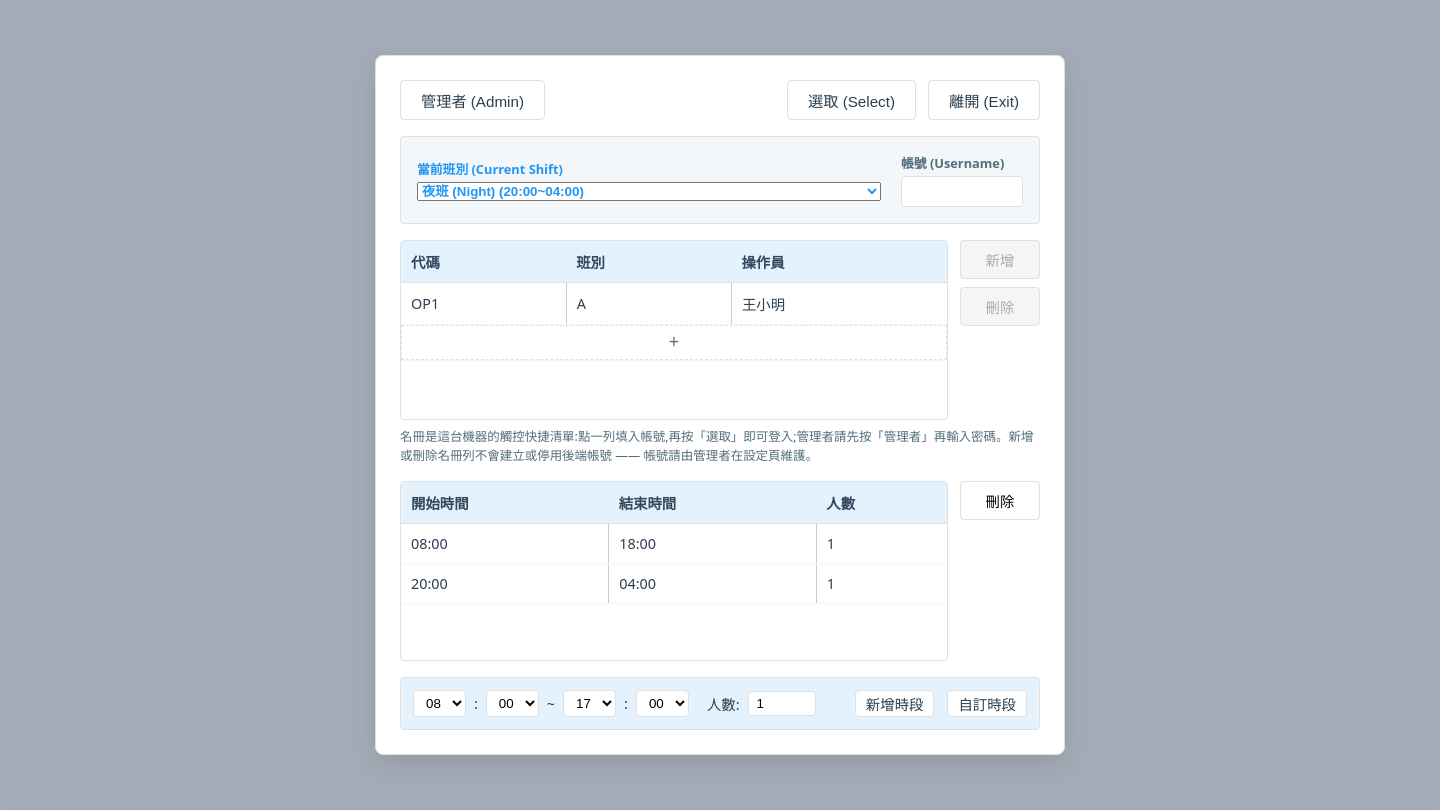
Test case: S17 登入失敗改用畫面訊息 › 429 要與帳號密碼錯誤分開說
Click the text "王小明": (839, 303) [731, 282, 947, 324]
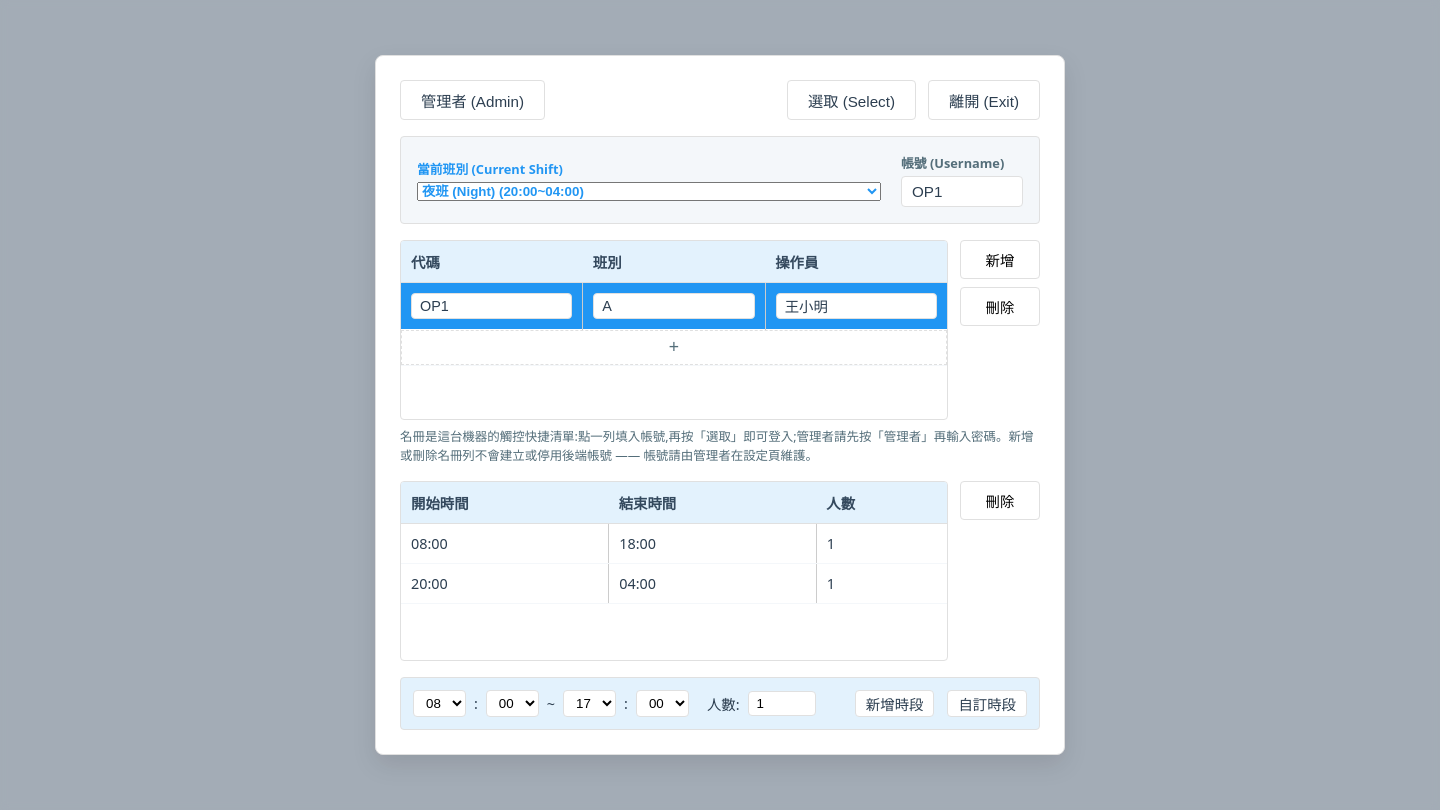
Click the button "選取 (Select)": (851, 100) [787, 80, 916, 120]
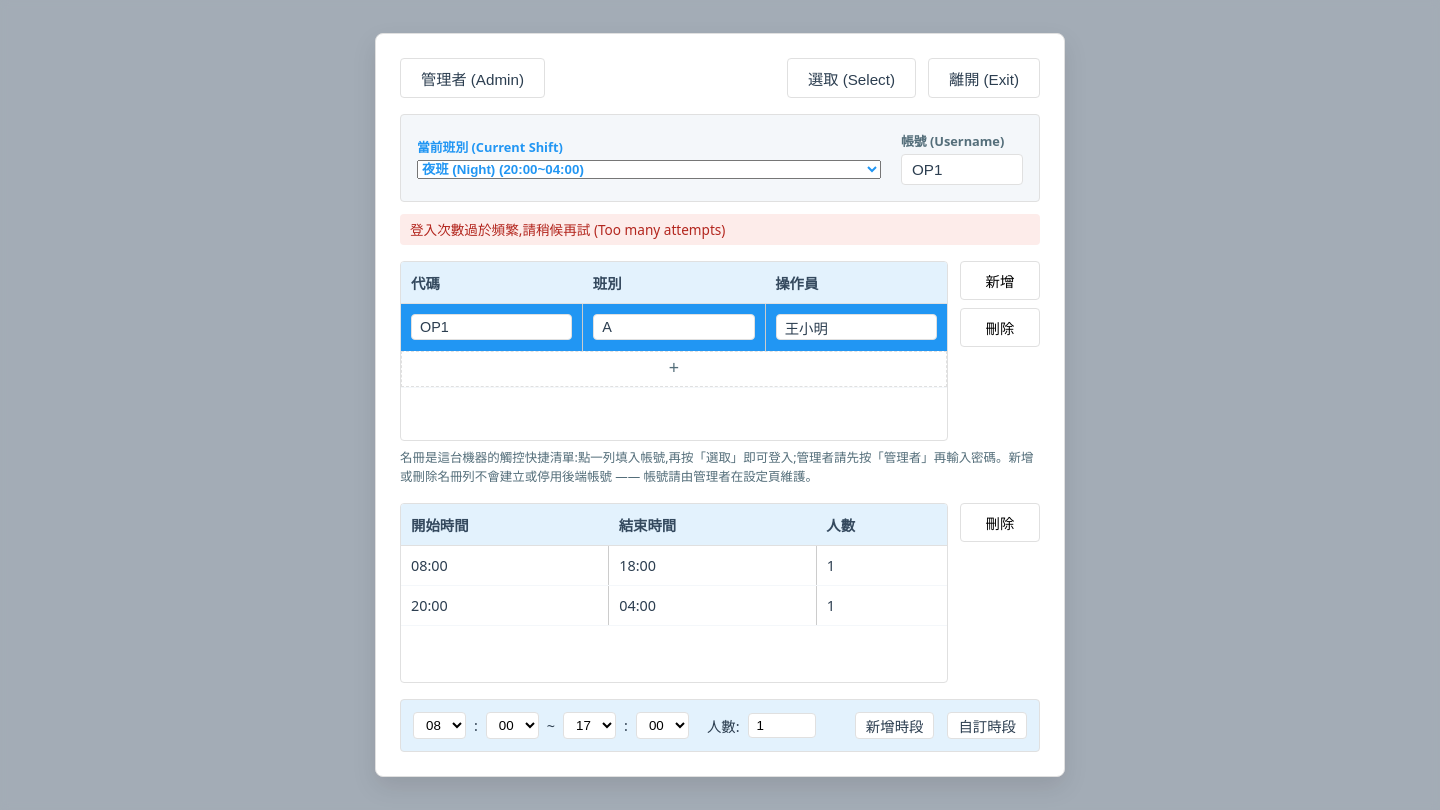
Expected: the message shows "過於頻繁", [410, 220, 726, 239]
